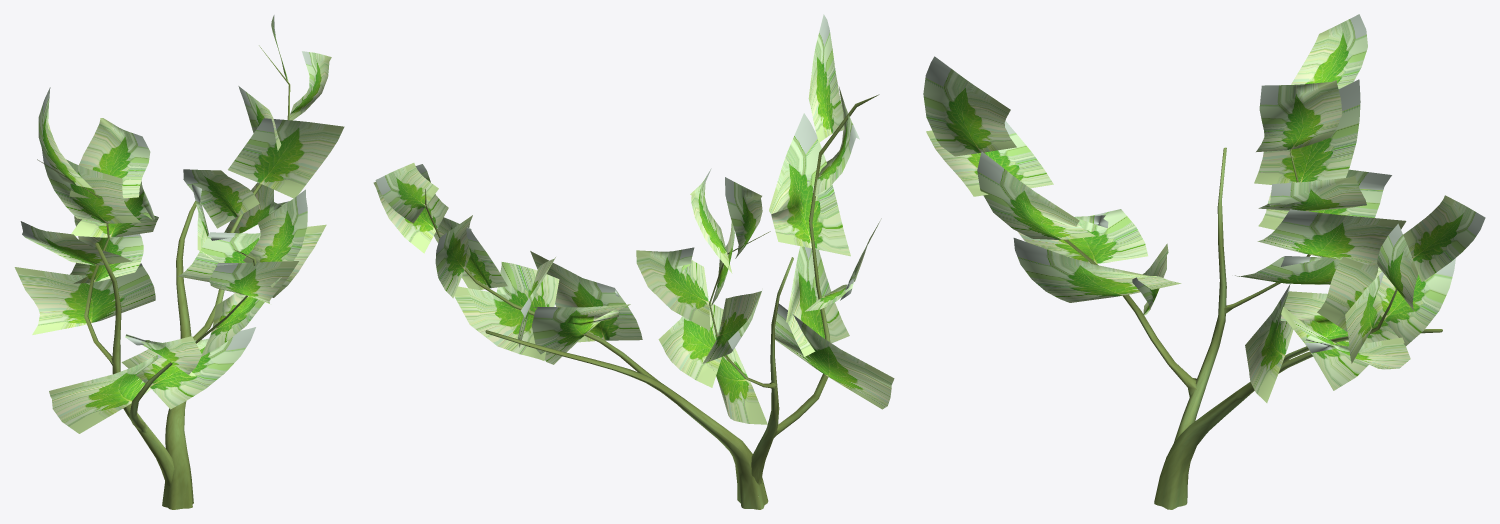
File: SM_Plant_20.fbx
The picture shows the model from 3 angles, left to right: view 1: azimuth 30°, elevation 25°; view 2: azimuth 150°, elevation 25°; view 3: azimuth 270°, elevation 25°; orthographic projection. The views are drawn at different scales.
Visible parts, largest first — view 1: SM_Plant_20; view 2: SM_Plant_20; view 3: SM_Plant_20.
Part boxes in pixels (box(x1,y1,x2,y2)): SM_Plant_20: box(14, 15, 344, 509); SM_Plant_20: box(373, 14, 894, 509); SM_Plant_20: box(923, 14, 1485, 509).
Size of the model in its own units: 31.66 by 32.78 by 29.88.
Materials: 2 (2 with a texture image).
